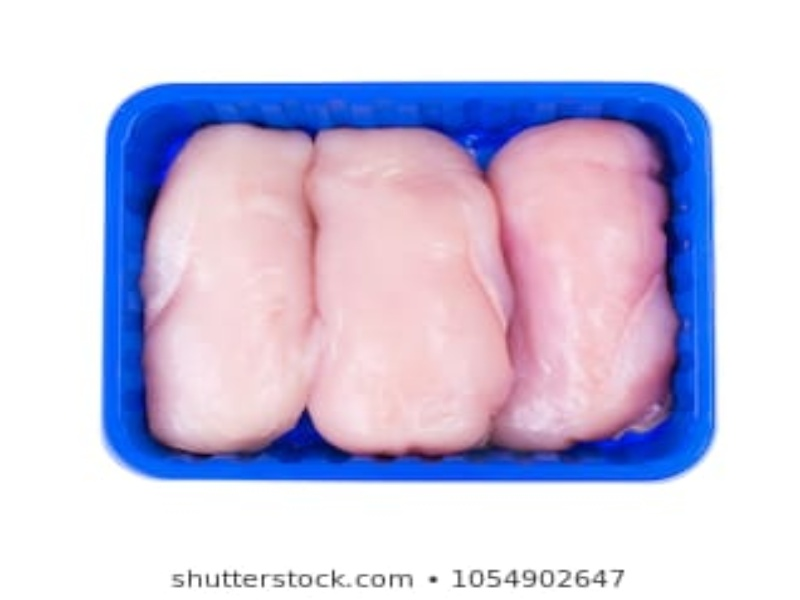plastic-tray: (93, 75, 729, 494)
